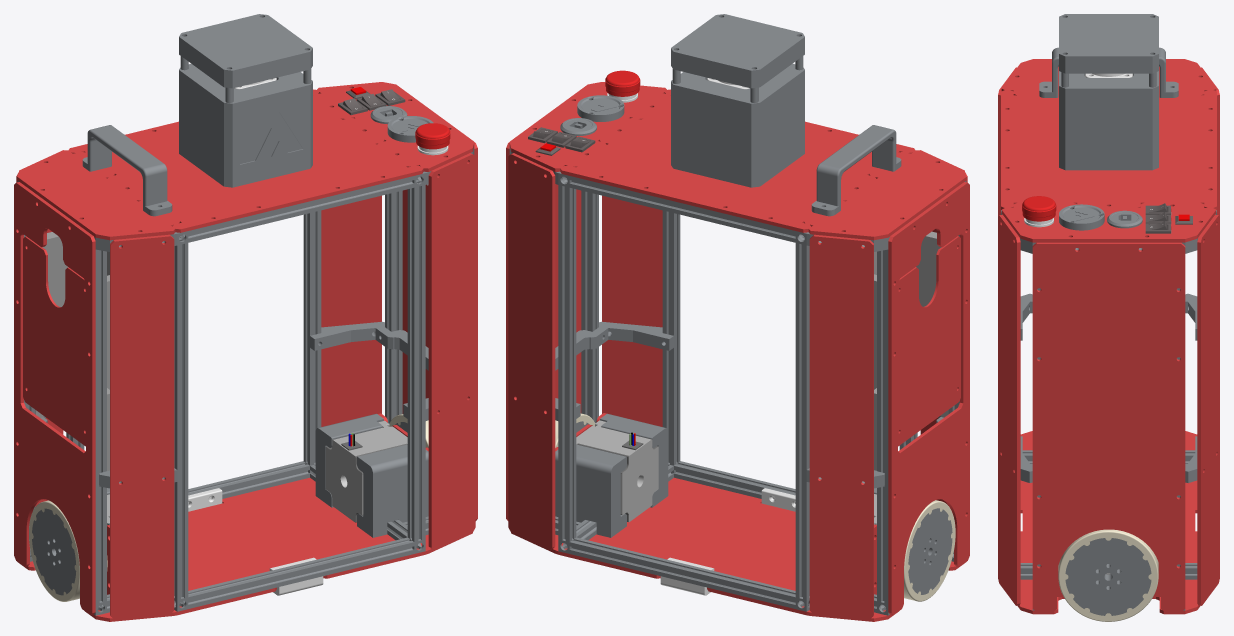
File: base roulante.glb
The picture shows the model from 3 angles, left to right: view 1: azimuth 30°, elevation 25°; view 2: azimuth 150°, elevation 25°; view 3: azimuth 270°, elevation 25°; orthographic projection. The views are drawn at different scales.
Parts seen in each view (by area): view 1: Part 1 (×11), MB30 (×8), grande plaque gauche, plaque haut mid, plaque batterie, plaque haut d, plaque haut g, NEMA 23 23HS20-2004S, plaque droite, jante, coin inf, Part 2 (+1 smaller); view 2: Part 1 (×11), MB30 (×8), grande plaque gauche, plaque haut mid, plaque batterie, plaque haut d, plaque haut g, Part 2, NEMA 23 23HS20-2004S, plaque droite, jante, coin inf (+1 smaller); view 3: plaque droite, Part 1 (×10), plaque haut mid, jante, plaque haut g, plaque haut d, pneu, coin inf (×2), con log, coin sup.
Boxes of the visible parts, box(x1,y1,x2,y2) form: Part 1 (×11): box(18, 14, 475, 621); MB30 (×8): box(95, 176, 425, 608); grande plaque gauche: box(14, 182, 95, 614); plaque haut mid: box(68, 89, 423, 232); plaque batterie: box(23, 236, 85, 446); plaque haut d: box(17, 150, 179, 240); plaque haut g: box(313, 82, 474, 171); NEMA 23 23HS20-2004S: box(325, 420, 407, 522); plaque droite: box(402, 142, 477, 520); jante: box(32, 508, 76, 595); coin inf: box(310, 321, 428, 420); Part 2: box(315, 413, 383, 507); Part 1 (×11): box(508, 14, 965, 621); MB30 (×8): box(558, 176, 888, 608); grande plaque gauche: box(888, 182, 969, 614); plaque haut mid: box(560, 89, 915, 232); plaque batterie: box(898, 236, 960, 446); plaque haut d: box(804, 150, 966, 240); plaque haut g: box(509, 82, 670, 171); Part 2: box(555, 444, 626, 537); NEMA 23 23HS20-2004S: box(576, 420, 658, 522); plaque droite: box(506, 142, 581, 520); jante: box(908, 508, 952, 594); coin inf: box(555, 321, 673, 420); plaque droite: box(1032, 242, 1185, 612); Part 1 (×10): box(998, 14, 1219, 614); plaque haut mid: box(1001, 90, 1216, 209); jante: box(1065, 538, 1151, 615); plaque haut g: box(1001, 202, 1216, 242); plaque haut d: box(1001, 59, 1216, 95); pneu: box(1058, 529, 1158, 621); coin inf (×2): box(1020, 293, 1197, 482); con log: box(1107, 210, 1142, 228); coin sup: box(1001, 211, 1216, 253).
Bounding box in the file's own units: 0.3414 × 0.431 × 0.1748.
